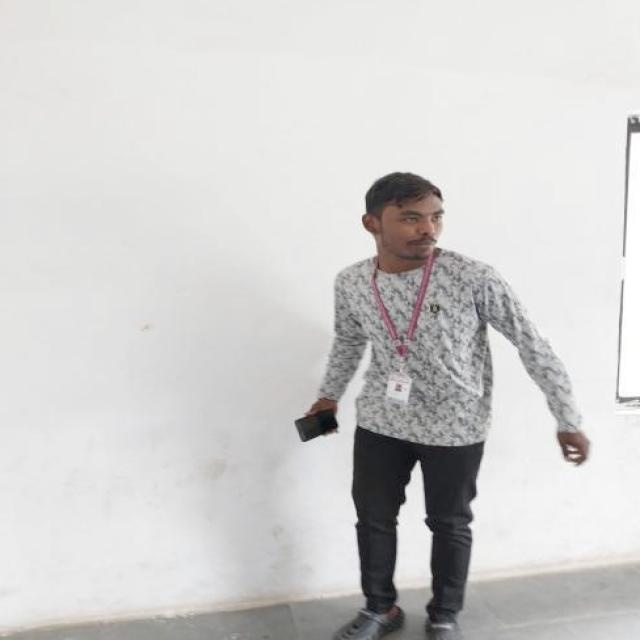ID_card: (373, 264, 441, 400)
